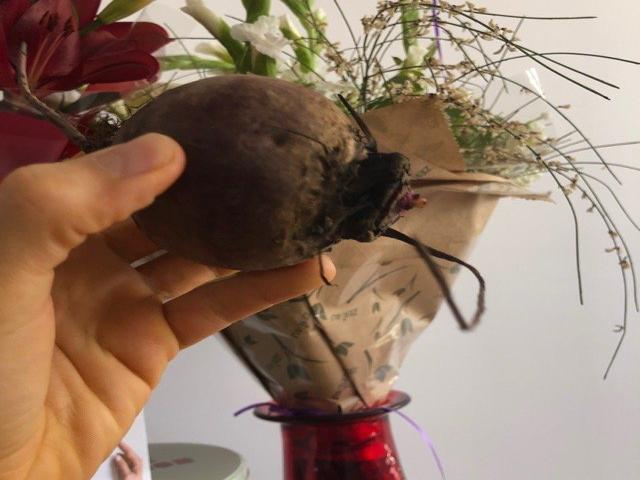beet: (19, 44, 486, 330)
